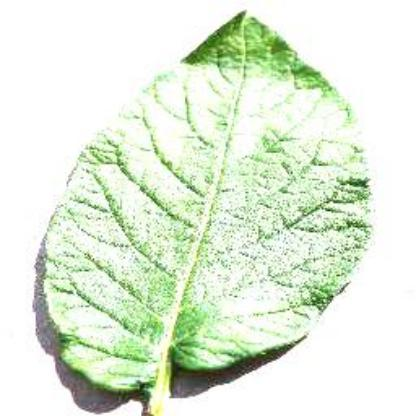Healthy-plant: (29, 8, 373, 416)
